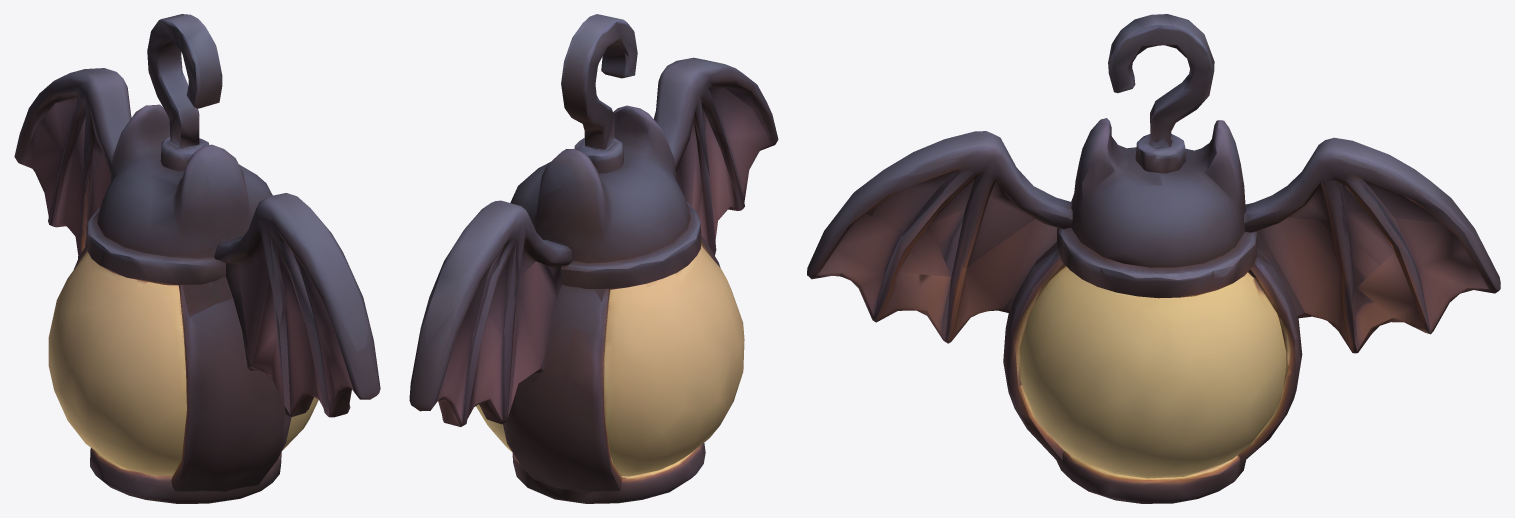
Rendered from H6_BatLantern_LOD1.fbx.
The picture shows the model from 3 angles, left to right: view 1: azimuth 30°, elevation 25°; view 2: azimuth 150°, elevation 25°; view 3: azimuth 270°, elevation 25°; orthographic projection.
Parts seen in each view (by area): view 1: H6_BatLantern_LOD1; view 2: H6_BatLantern_LOD1; view 3: H6_BatLantern_LOD1.
Part boxes in pixels (box(x1,y1,x2,y2)): H6_BatLantern_LOD1: box(14, 14, 380, 503); H6_BatLantern_LOD1: box(409, 14, 778, 503); H6_BatLantern_LOD1: box(807, 14, 1500, 503).
Size of the model in its own units: 0.2786 by 0.5003 by 0.6883.
Materials: 1 (1 with a texture image).
